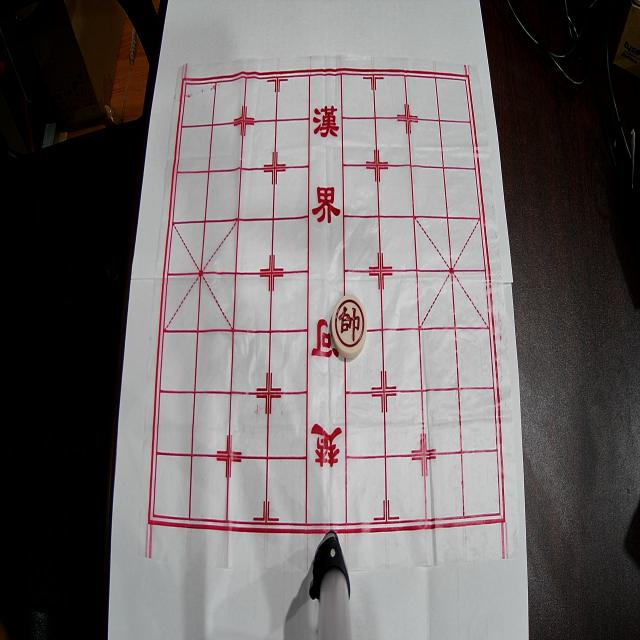red-general: (331, 294, 367, 359)
